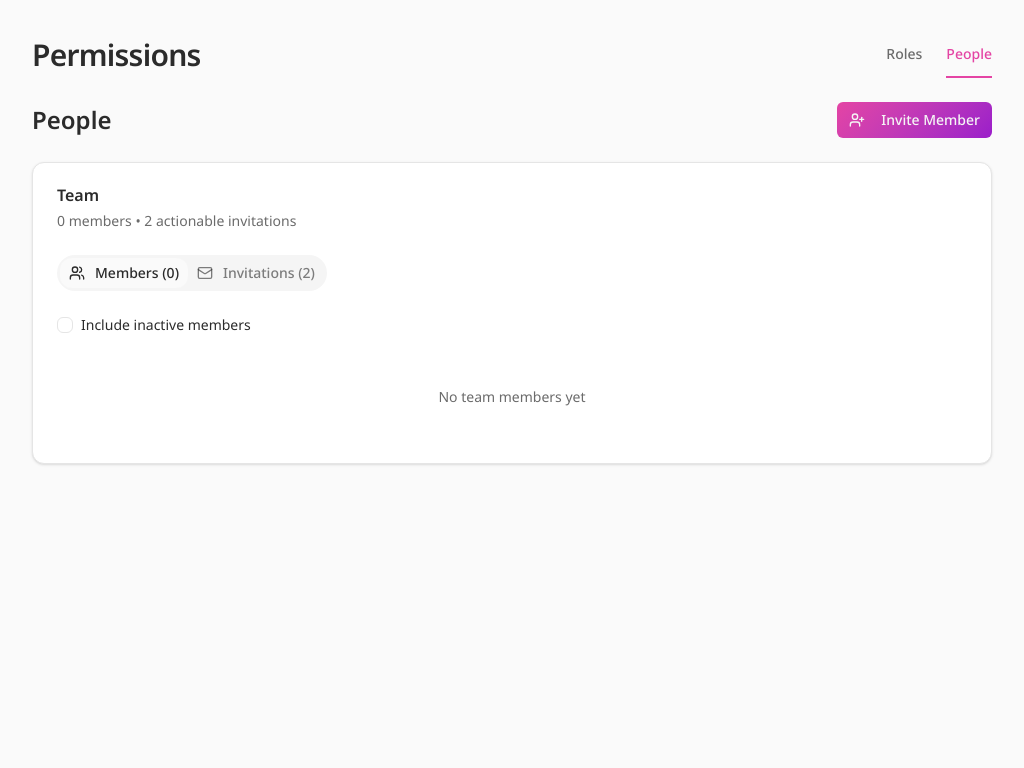
Test: TeamSettingsPage invitations tab › keeps the revoke dialog open with the error when the request fails
Click the tab "Invitations (2)".
click(256, 273)  # box top-left (188, 258), bottom-right (324, 288)
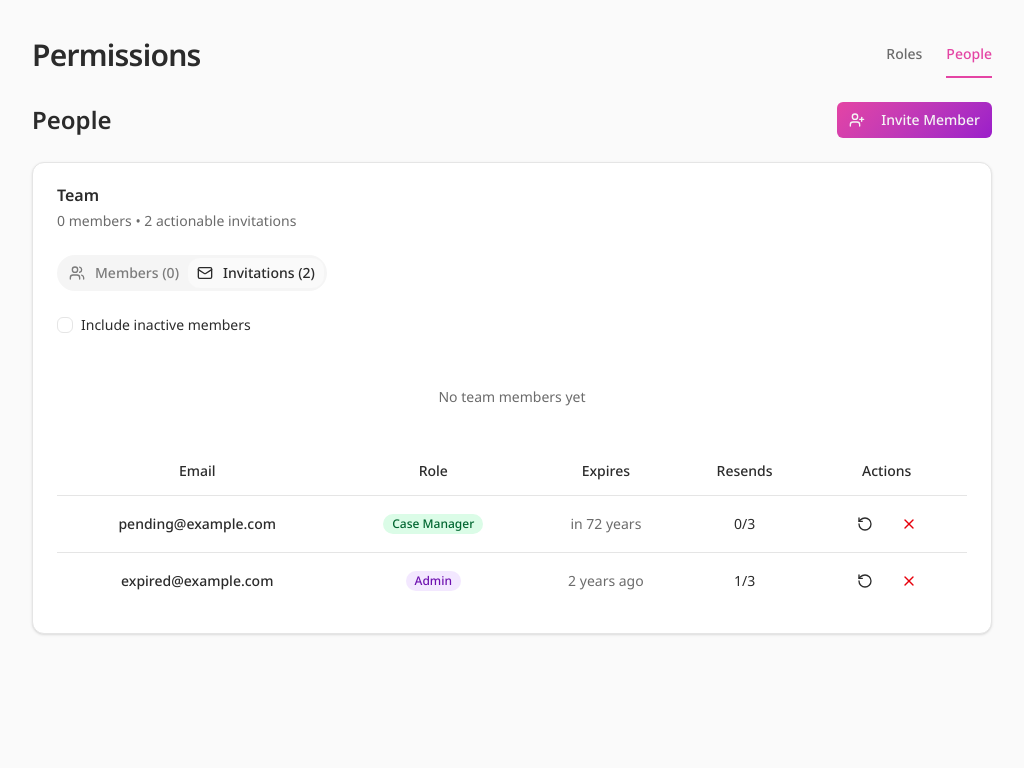
Click the button named "Revoke invitation for expired@example.com".
click(909, 580)  # box top-left (891, 564), bottom-right (927, 596)
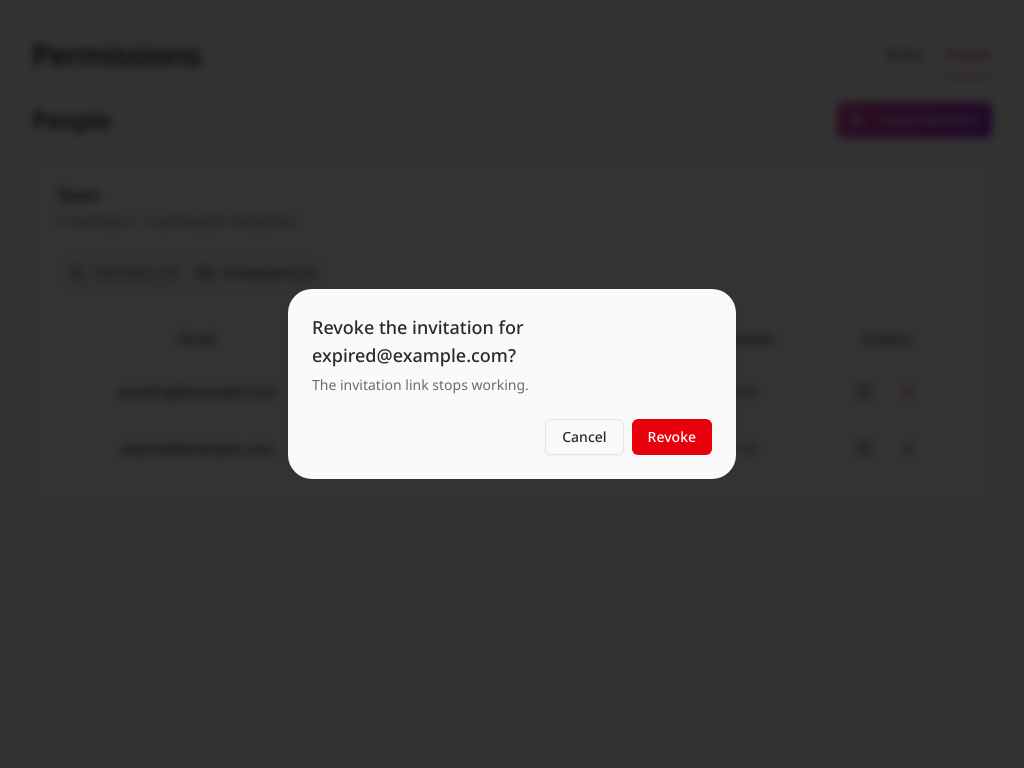
Click the button "Revoke".
click(672, 437)  # box top-left (632, 419), bottom-right (712, 455)
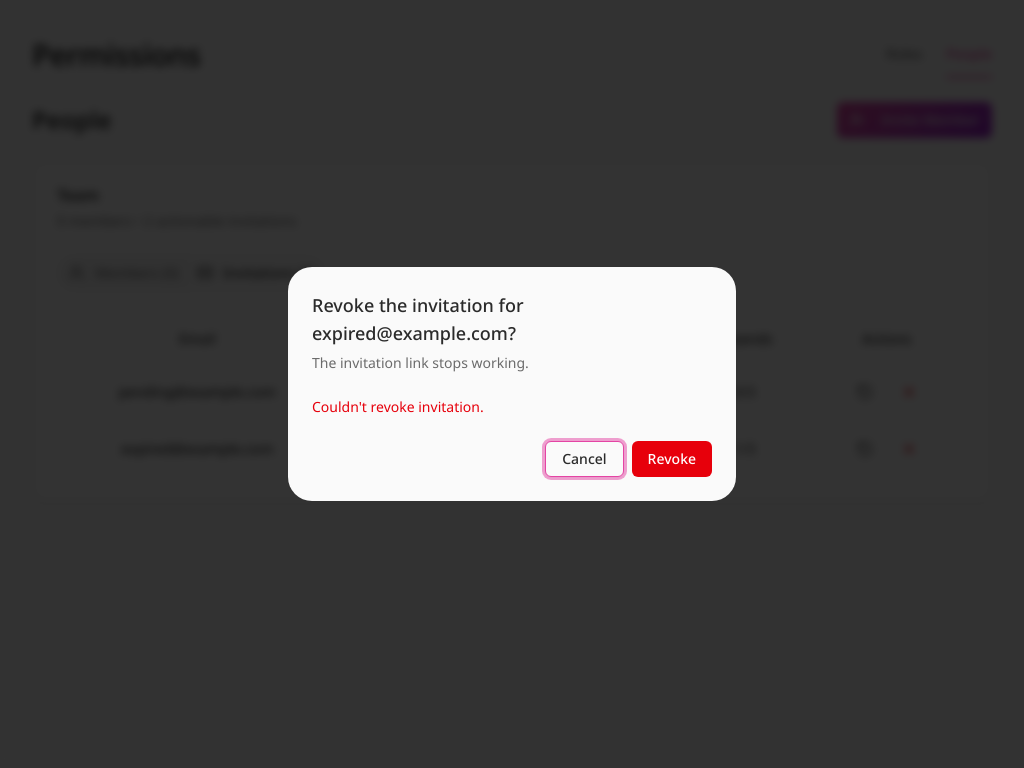
Now the text "Couldn't revoke invitation." is shown, box top-left (312, 397), bottom-right (484, 416)
